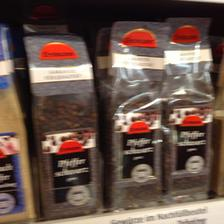Gewuerze: (22, 22, 106, 218), (104, 18, 168, 210), (164, 15, 216, 196)
